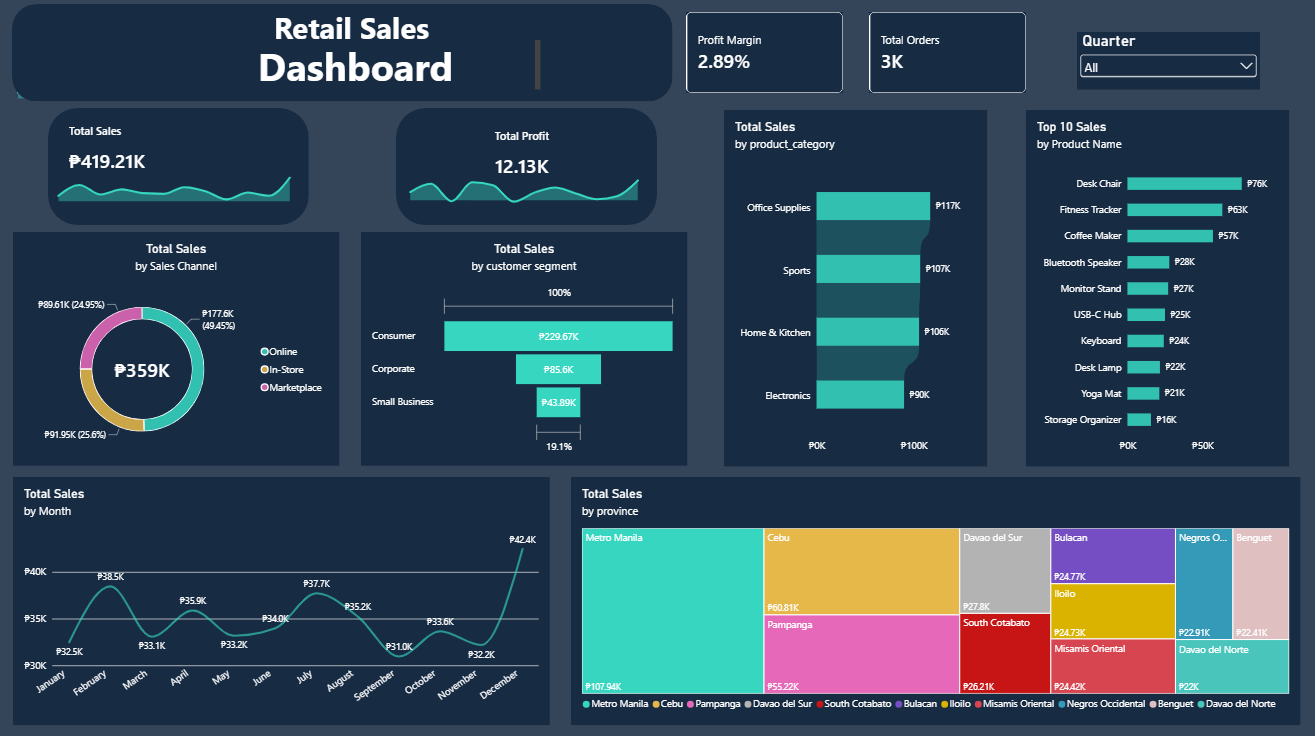

What the dashboard file says about the page in this screenshot:
{"tool":"powerbi","page":{"name":"Page 1","canvas":[1920,1080],"ordinal":0},"visuals":[{"type":"shape","box":[19.5,9,963.7,142.4],"z":0,"group":"g2"},{"type":"cardVisual","fields":{"Data":["Table2.Total Orders"]},"box":[1269.5,21,229.3,118.4],"z":0},{"type":"group","id":"g1","title":"Group 1","box":[580.1,160.4,380.7,170.9],"z":0,"group":"g4"},{"type":"textbox","box":[402.5,13.5,447.7,83.7],"z":1000,"group":"g2"},{"type":"shape","box":[71.9,160,380.6,170.7],"z":1000,"group":"g3"},{"type":"shape","box":[580.1,160.4,380.7,170.9],"z":1000,"group":"g1"},{"type":"cardVisual","fields":{"Data":["Table2.Total Profit"]},"box":[681.1,179.3,166.4,95.9],"z":1000,"group":"g4"},{"type":"textbox","box":[378.5,61.5,411.8,73.4],"z":2000,"group":"g2"},{"type":"areaChart","title":"Total  Sales","fields":{"Category":["Table2.order_date2.Variation.Date Hierarchy.Month"],"Y":["Table2.Total Sales"]},"box":[0,78.7,378.7,83.8],"z":2000},{"type":"areaChart","fields":{"Category":["Table2.order_date2.Variation.Date Hierarchy.Month"],"Y":["Table2.Total Profit"]},"box":[572.5,233.3,388.2,91.4],"z":2000,"group":"g4"},{"type":"cardVisual","fields":{"Data":["Table2.Total Sales"]},"box":[86.6,151.4,167.9,137.9],"z":3000,"group":"g3"},{"type":"lineChart","fields":{"Category":["Table2.order_date2.Variation.Date Hierarchy.Month"],"Y":["Table2.Total Sales"]},"box":[20.4,698.8,783.5,361.8],"z":3000},{"type":"barChart","title":"Total Sales ","fields":{"Category":["Table2.product_category"],"Y":["Table2.Total Sales"]},"box":[1058.2,163.4,383.7,520.1],"z":4000},{"type":"areaChart","title":"Total  Sales","fields":{"Category":["Table2.order_date2.Variation.Date Hierarchy.Month"],"Y":["Table2.Total Sales"]},"box":[58.9,230.3,394.2,82.4],"z":5000,"group":"g3"},{"type":"treemap","fields":{"Group":["Table2.province"],"Values":["Table2.Total Sales"]},"box":[834.5,698.8,1063.6,361.8],"z":5000},{"type":"donutChart","title":"Total Sales","fields":{"Category":["Table2.sales_channel"],"Y":["Table2.Total Sales"]},"box":[20.4,341.4,475.6,341.4],"z":6000},{"type":"funnel","title":"Total  Sales","fields":{"Category":["Table2.customer_segment"],"Y":["Table2.Total Sales"]},"box":[528.1,341.4,475.6,341.4],"z":7000},{"type":"barChart","title":"Top 10 Sales ","fields":{"Category":["Table2.product_name"],"Y":["Table2.Total Sales"]},"box":[1498.8,163.4,383.7,520.1],"z":8000},{"type":"slicer","fields":{"Values":["Table2.order_date2.Variation.Date Hierarchy.Quarter"]},"box":[1572.3,49.5,266.8,83.9],"z":9000},{"type":"group","id":"g2","title":"Group 2","box":[19.5,9,963.7,142.4],"z":10000},{"type":"group","id":"g3","title":"Group 1","box":[58.9,151.4,394.2,179.3],"z":11000},{"type":"group","id":"g4","title":"Group 3","box":[572.5,160.4,388.3,170.9],"z":12000},{"type":"cardVisual","fields":{"Data":["Table2.Profit Margin"]},"box":[1002.7,21,229.3,118.4],"z":12001}]}

Visuals, with their boxes in screenshot pixels (x1, y1, x2, y2), scaled from the page's 1920x1080 canvas onto the 1315x736 screenshot:
shape: l=13, t=6, r=673, b=103
cardVisual - Table2.Total Orders: l=869, t=14, r=1027, b=95
"Group 1" group: l=397, t=109, r=658, b=226
textbox: l=276, t=9, r=582, b=66
shape: l=49, t=109, r=310, b=225
shape: l=397, t=109, r=658, b=226
cardVisual - Table2.Total Profit: l=466, t=122, r=580, b=188
textbox: l=259, t=42, r=541, b=92
"Total  Sales" areaChart: l=0, t=54, r=259, b=111
areaChart - Table2.order_date2.Variation.Date Hierarchy.Month x Table2.Total Profit: l=392, t=159, r=658, b=221
cardVisual - Table2.Total Sales: l=59, t=103, r=174, b=197
lineChart - Table2.order_date2.Variation.Date Hierarchy.Month x Table2.Total Sales: l=14, t=476, r=551, b=723
"Total Sales " barChart: l=725, t=111, r=988, b=466
"Total  Sales" areaChart: l=40, t=157, r=310, b=213
treemap - Table2.province x Table2.Total Sales: l=572, t=476, r=1300, b=723
"Total Sales" donutChart: l=14, t=233, r=340, b=465
"Total  Sales" funnel: l=362, t=233, r=687, b=465
"Top 10 Sales " barChart: l=1027, t=111, r=1289, b=466
slicer - Table2.order_date2.Variation.Date Hierarchy.Quarter: l=1077, t=34, r=1260, b=91
"Group 2" group: l=13, t=6, r=673, b=103
"Group 1" group: l=40, t=103, r=310, b=225
"Group 3" group: l=392, t=109, r=658, b=226
cardVisual - Table2.Profit Margin: l=687, t=14, r=844, b=95
